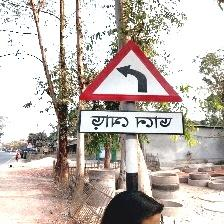Right-turn: (78, 40, 186, 129)
